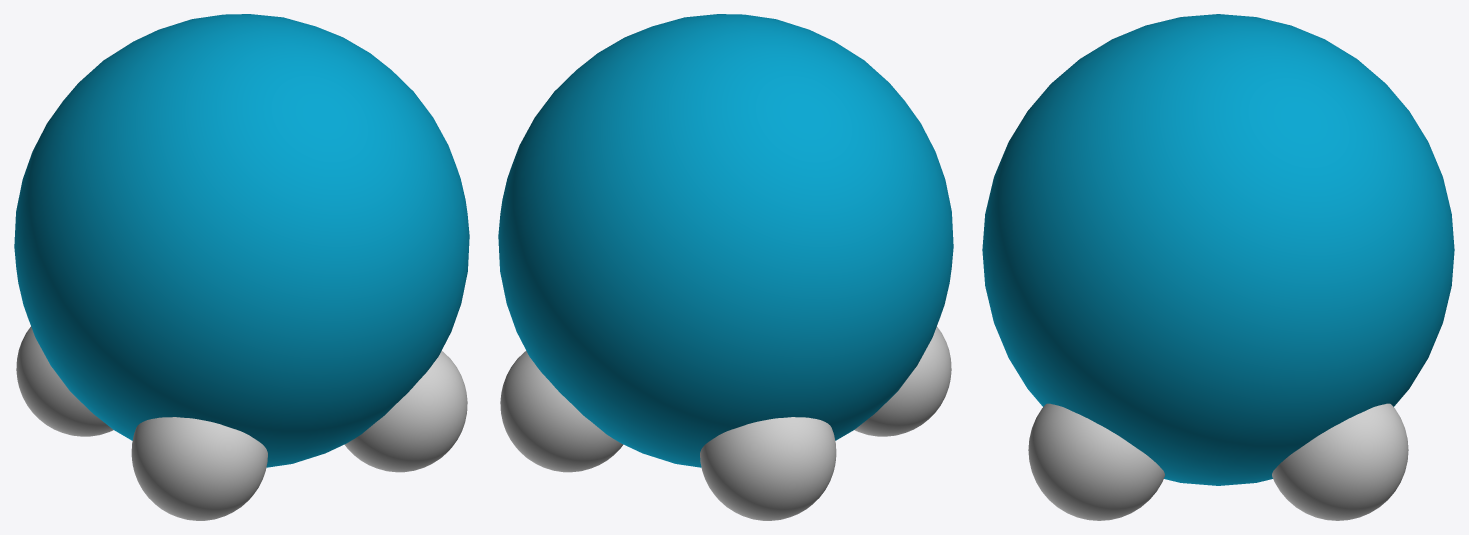
The model's file is Player.obj.
The picture shows the model from 3 angles, left to right: view 1: azimuth 30°, elevation 25°; view 2: azimuth 150°, elevation 25°; view 3: azimuth 270°, elevation 25°; orthographic projection. The views are drawn at different scales.
Parts seen in each view (by area): view 1: Icosphere_Icosphere.001, Icosphere.003_Icosphere.009, Icosphere.002_Icosphere.008, Icosphere.001_Icosphere.007; view 2: Icosphere_Icosphere.001, Icosphere.001_Icosphere.007, Icosphere.005_Icosphere.002, Icosphere.003_Icosphere.009; view 3: Icosphere_Icosphere.001, Icosphere.005_Icosphere.002, Icosphere.002_Icosphere.008.
Boxes of the visible parts, x1,y1,x2,y2 form: Icosphere_Icosphere.001: (14,14,469,467); Icosphere.003_Icosphere.009: (131,417,267,520); Icosphere.002_Icosphere.008: (344,351,467,472); Icosphere.001_Icosphere.007: (16,326,113,436); Icosphere_Icosphere.001: (498,14,953,467); Icosphere.001_Icosphere.007: (700,417,836,520); Icosphere.005_Icosphere.002: (500,351,623,472); Icosphere.003_Icosphere.009: (854,326,951,436); Icosphere_Icosphere.001: (982,14,1454,485); Icosphere.005_Icosphere.002: (1272,403,1408,520); Icosphere.002_Icosphere.008: (1028,403,1164,520).
Size of the model in its own units: 1 by 1 by 1.
